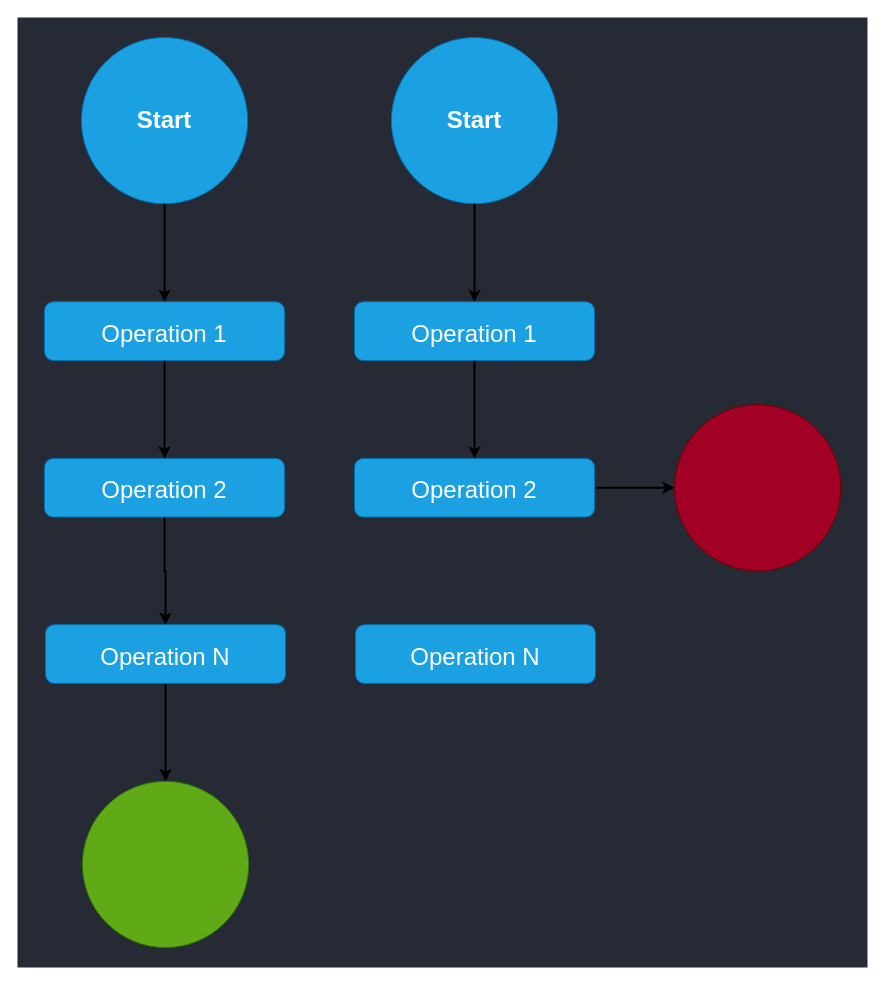
The diagram is 884 pixels wide and 984 high, and some of its shapes have lost their labels. The box of each missing label's shape, as (x1, y1, x2, y2) in pixels:
Commit: (81, 780, 249, 948)
Rollback: (674, 404, 841, 571)
